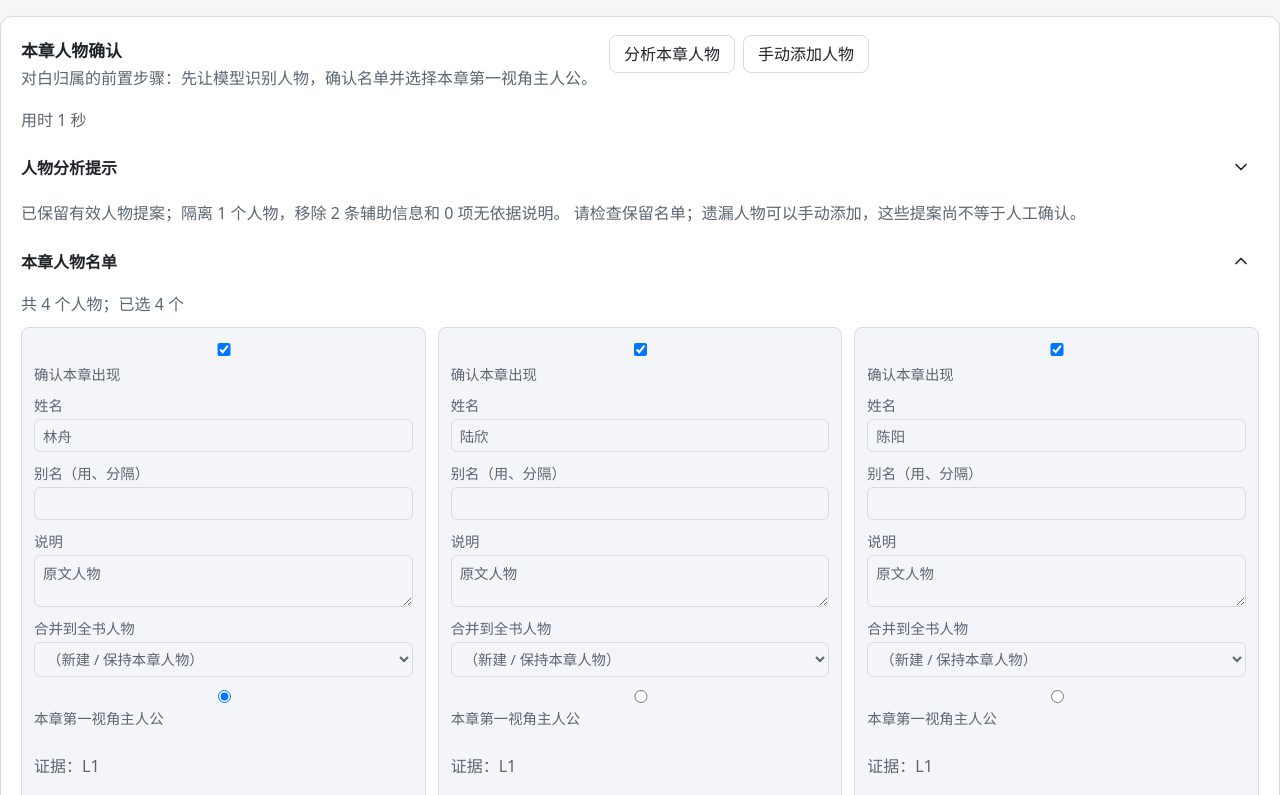
it: restores saved partial-proposal warnings without leaking them into a different chapter
Check: the text "已保留有效人物提案；隔离 1 个人物，移除 2 条辅助信息和 0 项无依据说明。 请检查保留名单；遗漏人物可以手动添加，这些提案尚不等于人工确认。" is shown, box [21,201,1259,227]
Check: the field with test id "roster-name-p0" holds "林舟", box [34,419,413,452]
Click the button named "展开人物分析提示": (1241, 167) [1223,149,1259,185]
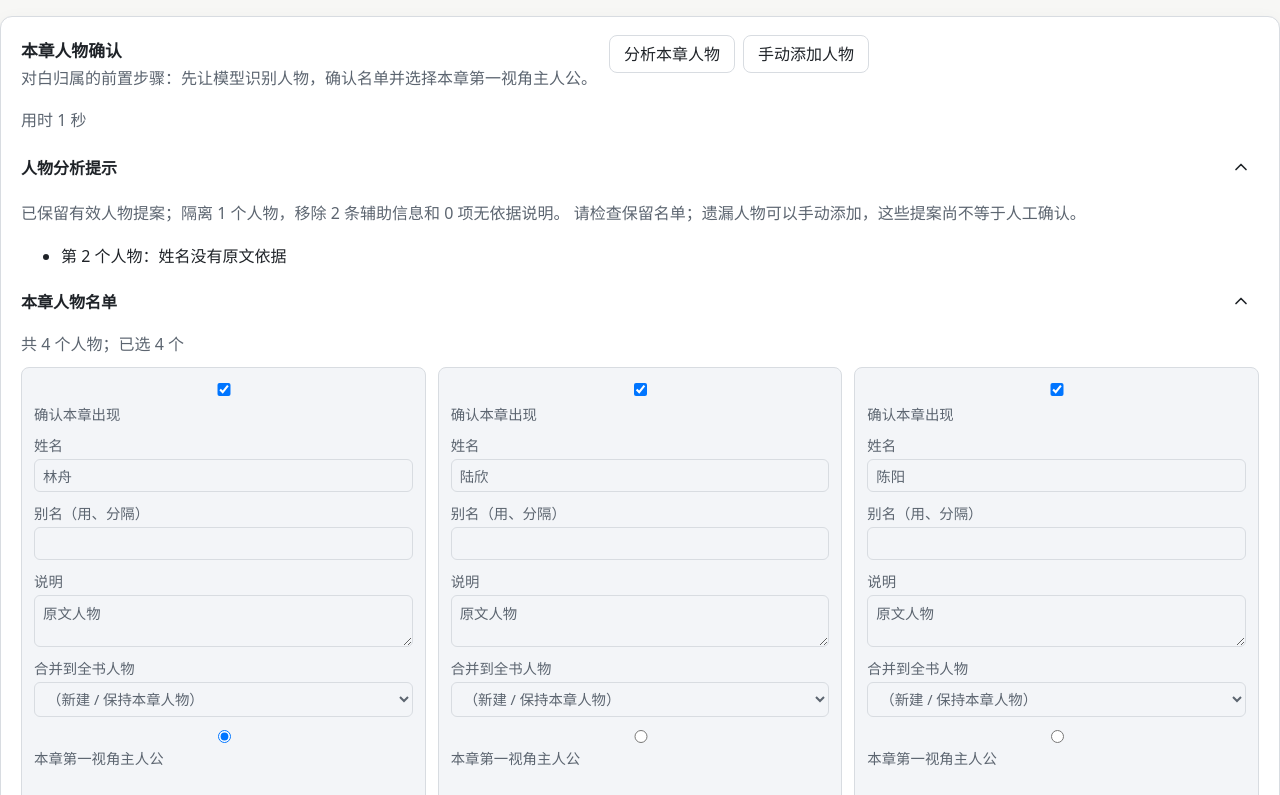
Check: the list item "第 2 个人物：姓名没有原文依据" is shown, box [61,245,286,267]
